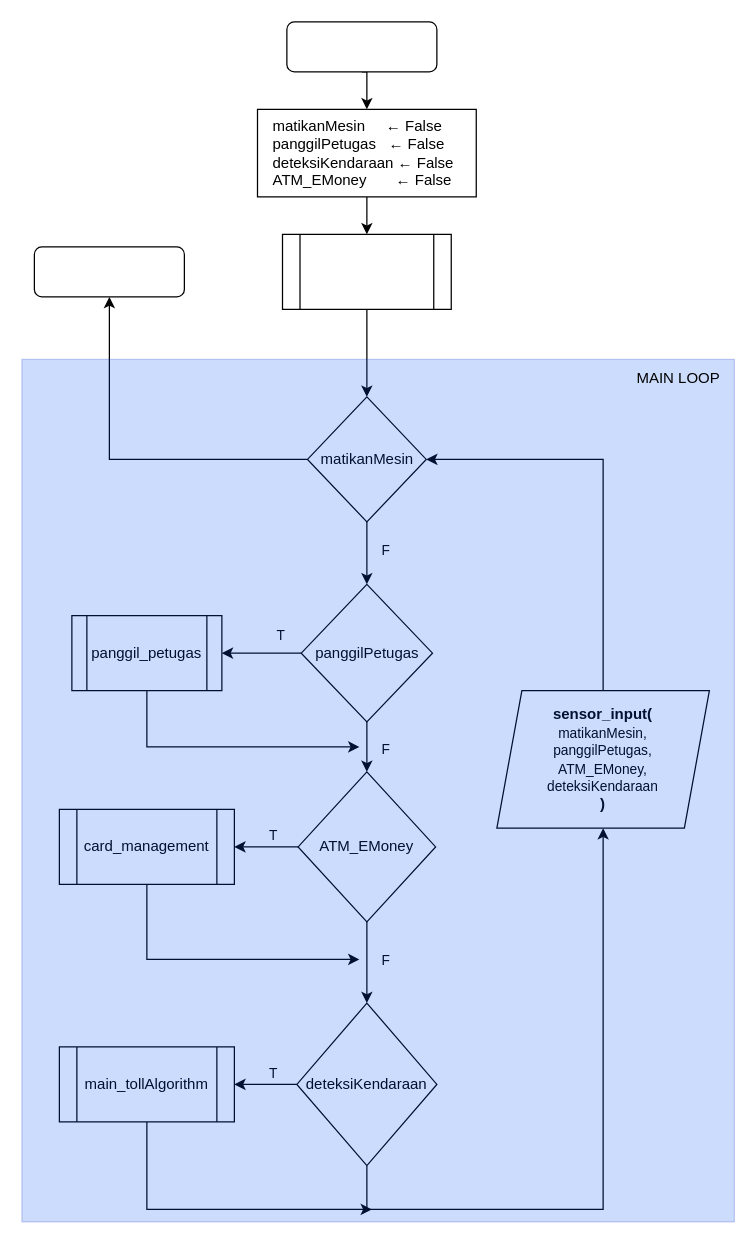
Image size: 756x1244. Some labels were removed from this diagram. The centre of each missing label's shape, as x and y in pixels:
cardDatabase_init: [366,271]
MULAI: [361,46]
SELESAI: [108,271]
